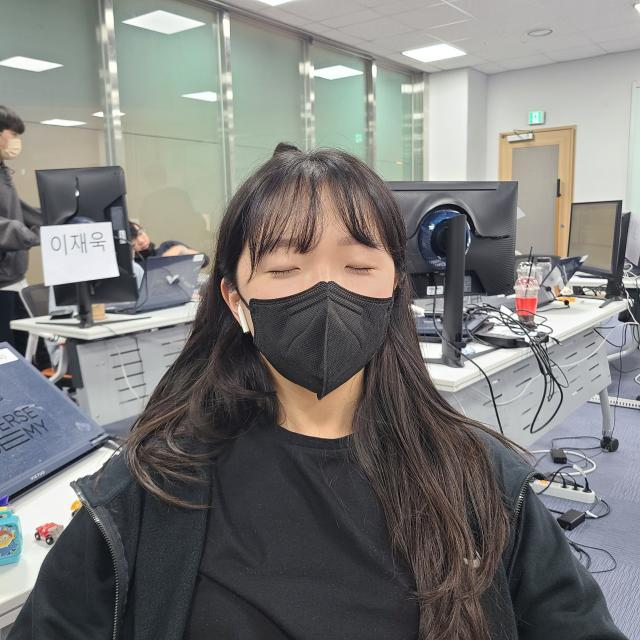earphone: (221, 299, 265, 341)
laptop_computer: (391, 169, 569, 366), (26, 155, 158, 314), (561, 197, 640, 302), (140, 256, 198, 322)
